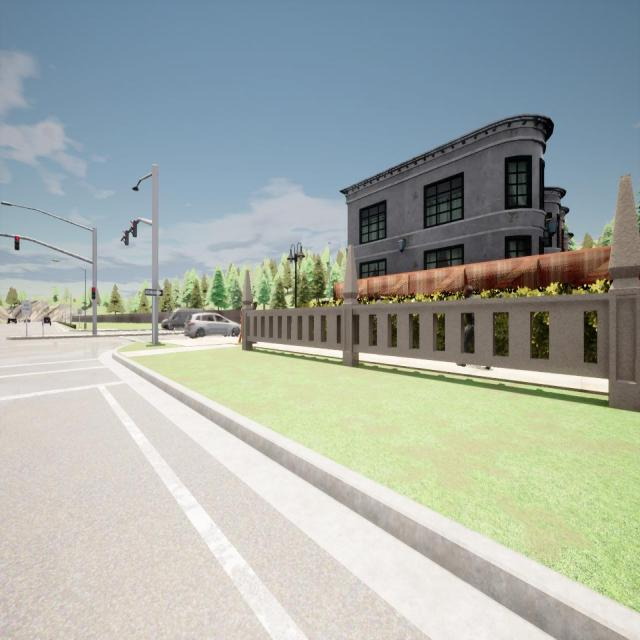Pedestrian: (455, 284, 490, 370), (373, 292, 382, 304), (252, 300, 259, 310)
Traffic_Signs: (144, 289, 163, 296), (22, 302, 31, 314), (77, 309, 82, 314)
Vehicle: (184, 312, 241, 338), (161, 308, 203, 330), (42, 316, 51, 326), (7, 316, 17, 324), (24, 318, 30, 323)
traffic_light: (130, 220, 137, 237), (122, 230, 129, 246), (14, 236, 20, 250), (92, 288, 95, 300)
